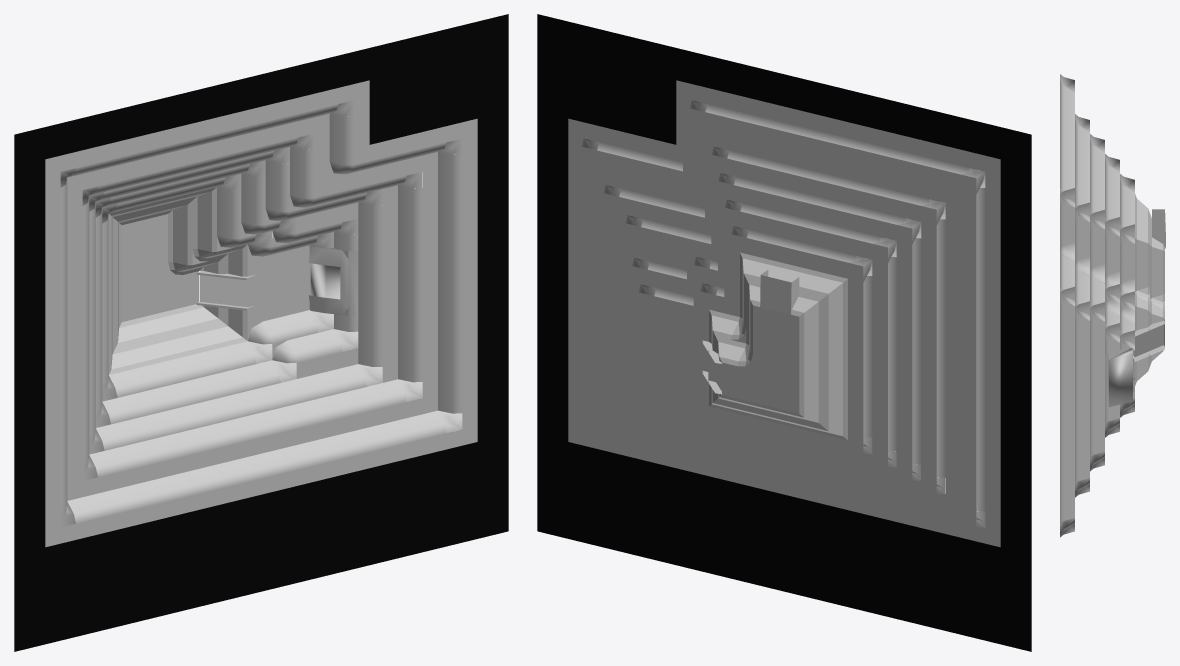
The model's file is Subterranean-Passages_00_00.obj.
3 views of the same model, side by side, from view 1: azimuth 30°, elevation 25°; view 2: azimuth 150°, elevation 25°; view 3: azimuth 270°, elevation 25° (orthographic). The views are drawn at different scales.
Parts seen in each view (by area): view 1: map; view 2: map; view 3: map.
Boxes of the visible parts, <box> form: map: <box>14,14,508,651</box>; map: <box>537,14,1031,651</box>; map: <box>1060,74,1165,537</box>.
Size of the model in its own units: 32 by 32 by 7.06.
